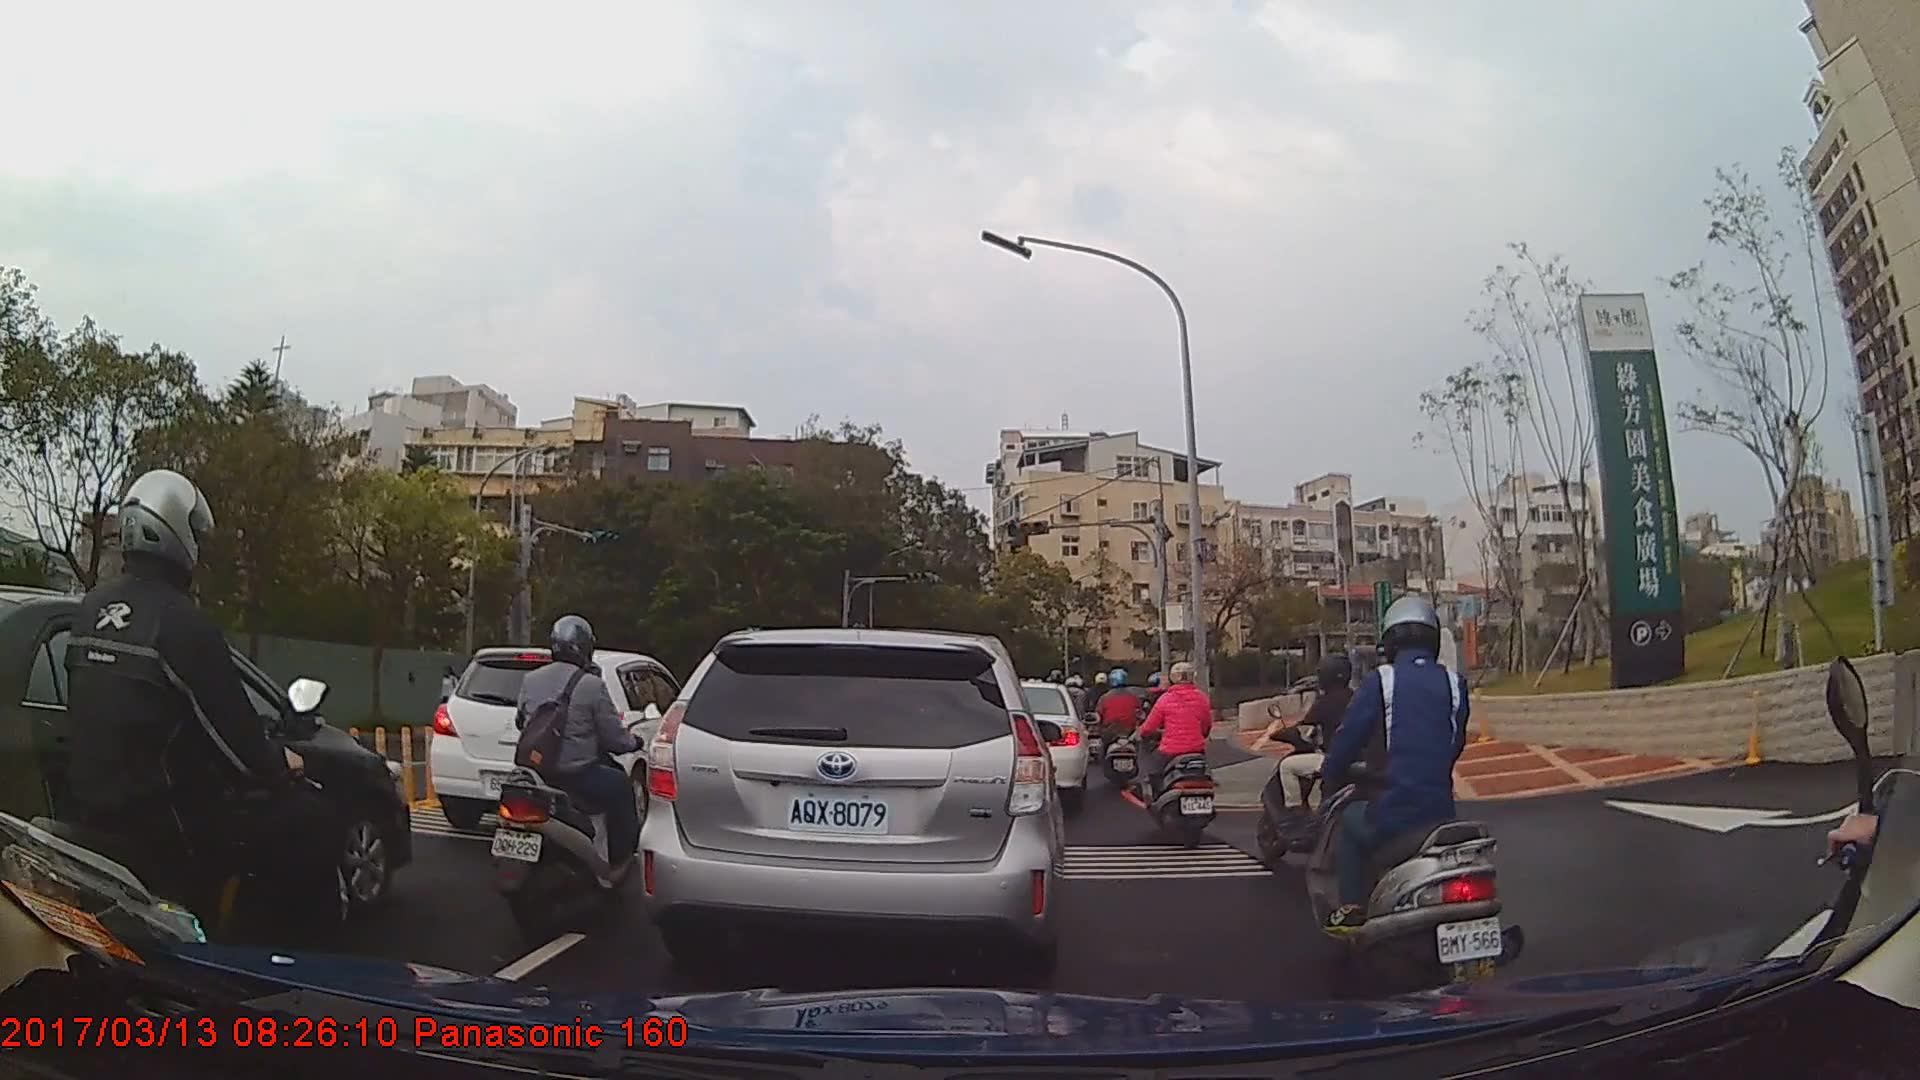pedestrian: (442, 665, 462, 727)
rider: (6, 467, 352, 1041), (1302, 598, 1523, 1019), (490, 619, 655, 934), (1252, 653, 1428, 869), (1144, 663, 1215, 854), (1091, 667, 1146, 789)
vehicle: (633, 626, 1064, 986), (0, 581, 411, 940), (427, 646, 701, 836), (981, 682, 1089, 805)
